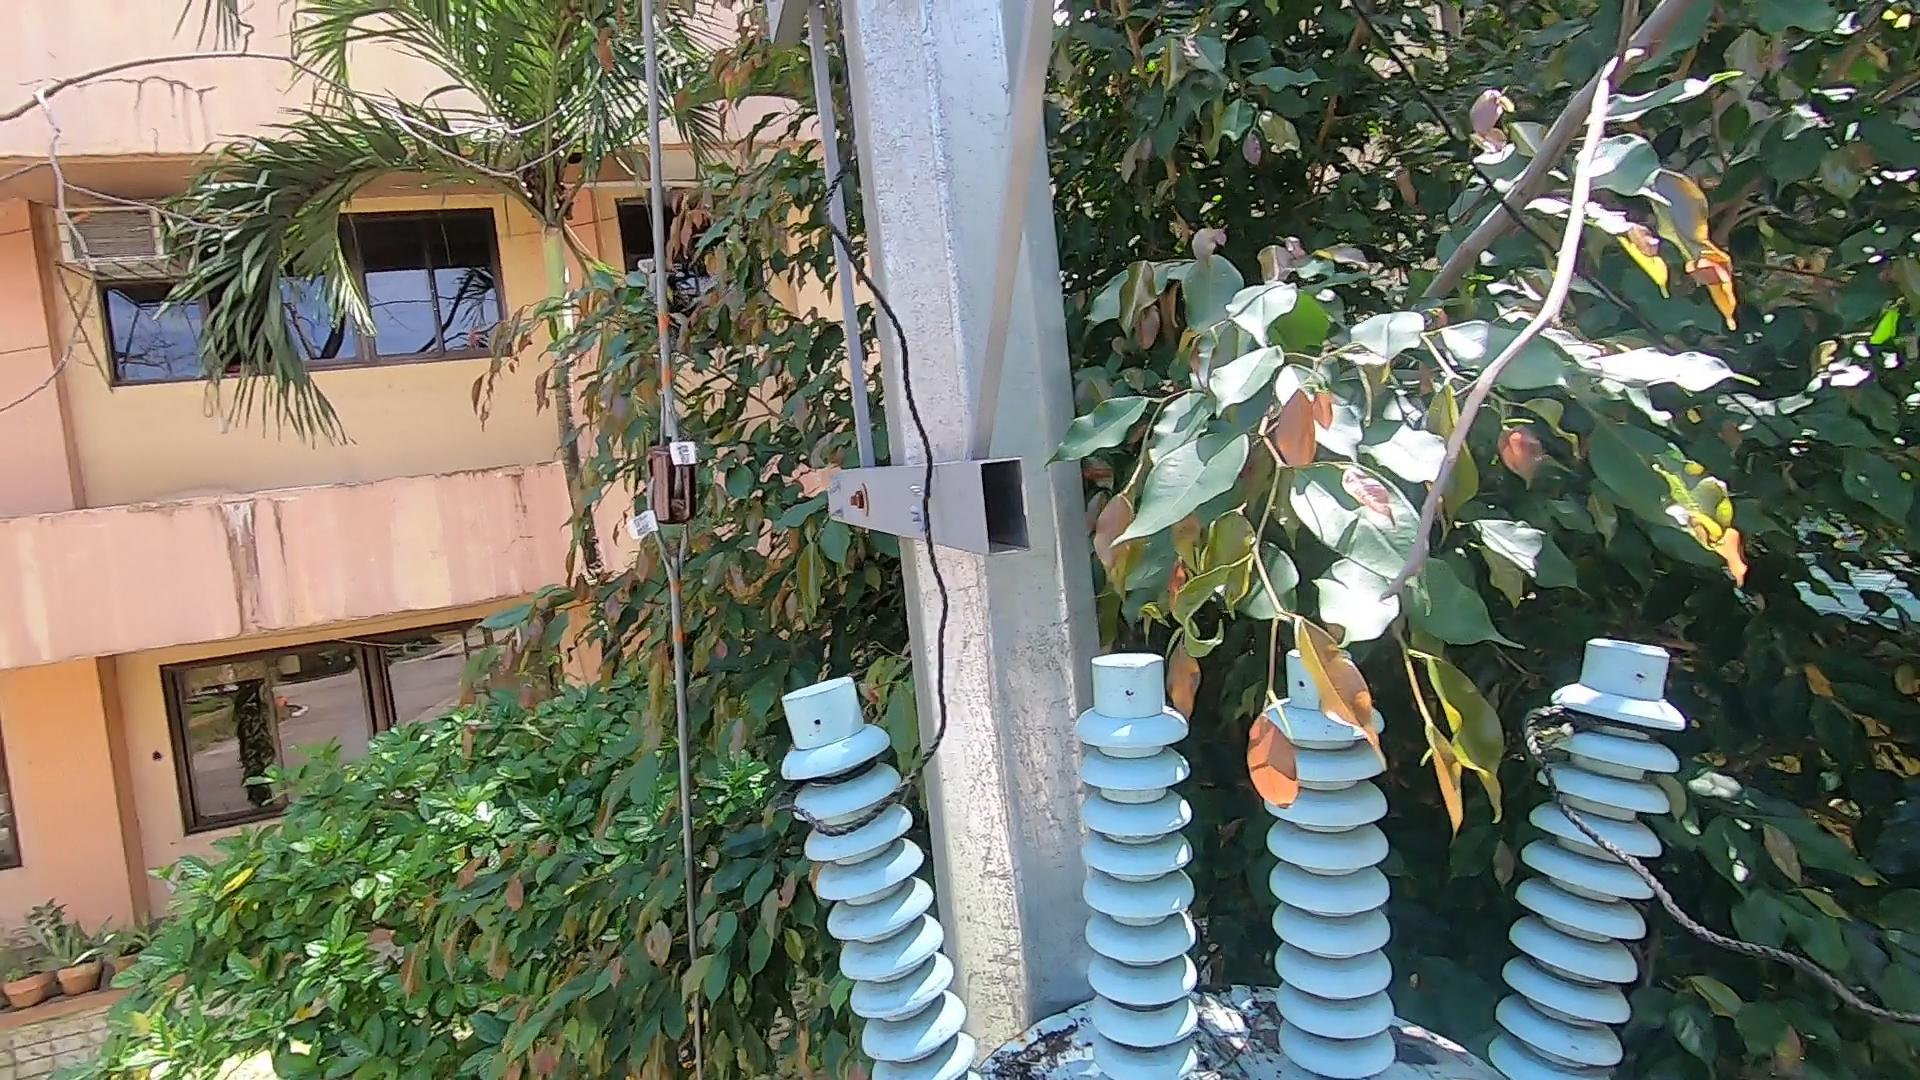tree branch: (1348, 1, 1725, 625)
